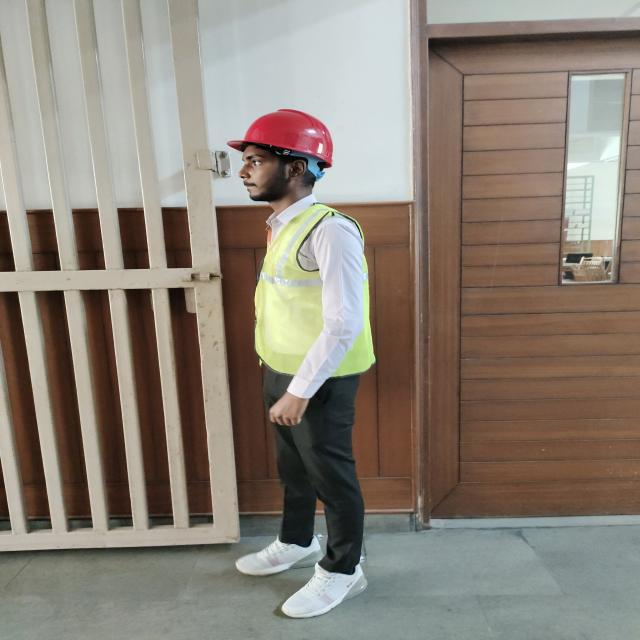safe: (228, 109, 377, 617)
